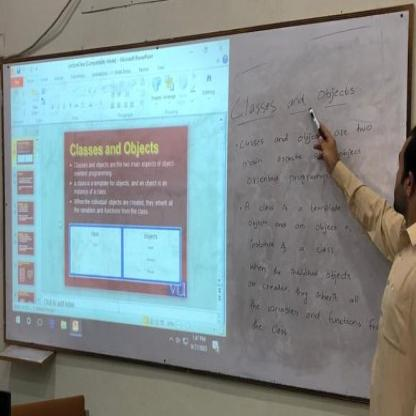Handwritten text: (220, 59, 366, 131), (237, 112, 380, 155), (246, 297, 369, 335), (243, 276, 366, 313), (244, 258, 354, 286), (244, 235, 342, 258), (241, 194, 343, 215), (245, 166, 332, 190), (245, 214, 342, 235), (238, 147, 306, 175)
Lecturer: (334, 124, 416, 405)
Whiteboard: (0, 4, 408, 410)
